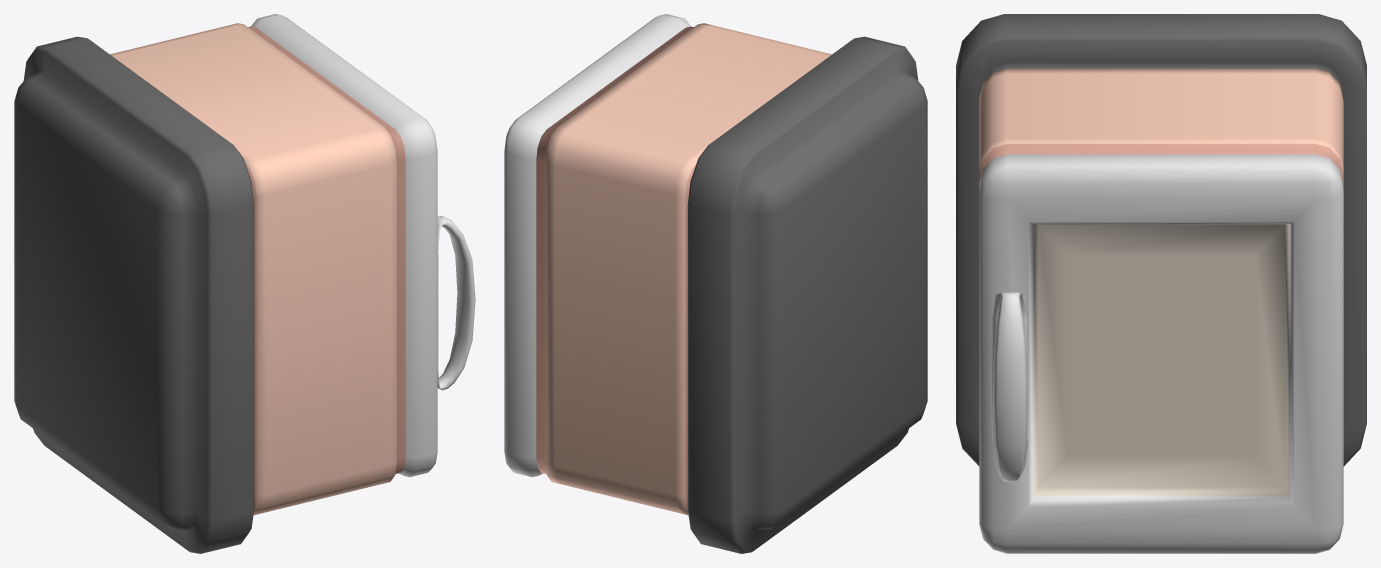
The model's file is WallBox_01.fbx.
The picture shows the model from 3 angles, left to right: view 1: azimuth 30°, elevation 25°; view 2: azimuth 150°, elevation 25°; view 3: azimuth 270°, elevation 25°; orthographic projection. The views are drawn at different scales.
Parts seen in each view (by area): view 1: Cube.286; view 2: Cube.286; view 3: Cube.286.
Boxes of the visible parts, x1=… form: Cube.286: x1=14, y1=14, x2=475, y2=553; Cube.286: x1=504, y1=14, x2=927, y2=553; Cube.286: x1=956, y1=14, x2=1366, y2=553.
Bounding box in the file's own units: 65.15 × 78.86 × 66.79.
